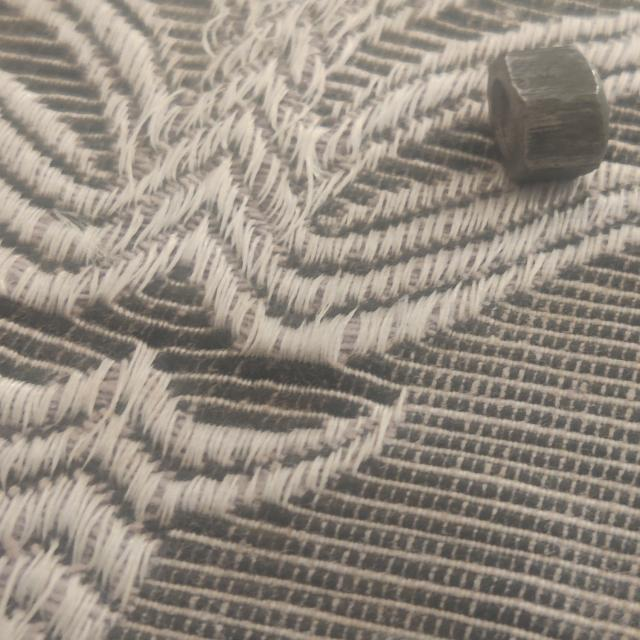disinfected nut: (487, 48, 610, 182)
